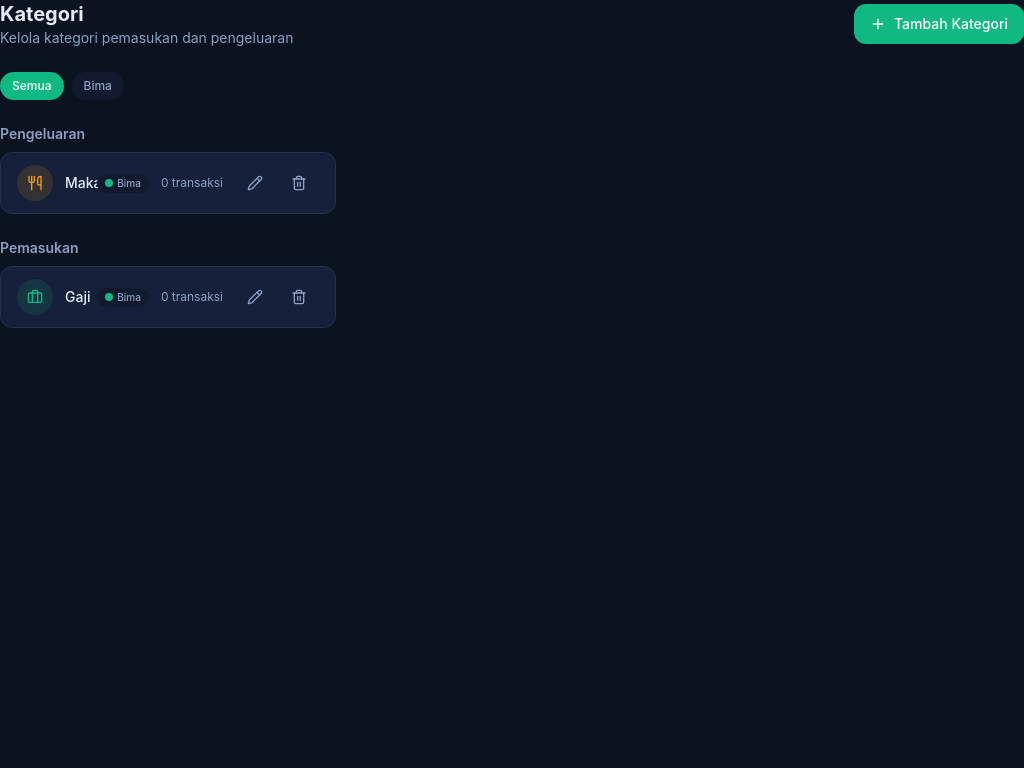
CategoriesPage › opens a pre-filled form when editing a category
Expected: the text "Makanan" is shown, [65,173,85,193]
Click the button named "Ubah" in the row of "Makanan": x=255, y=183 [235,169,275,197]
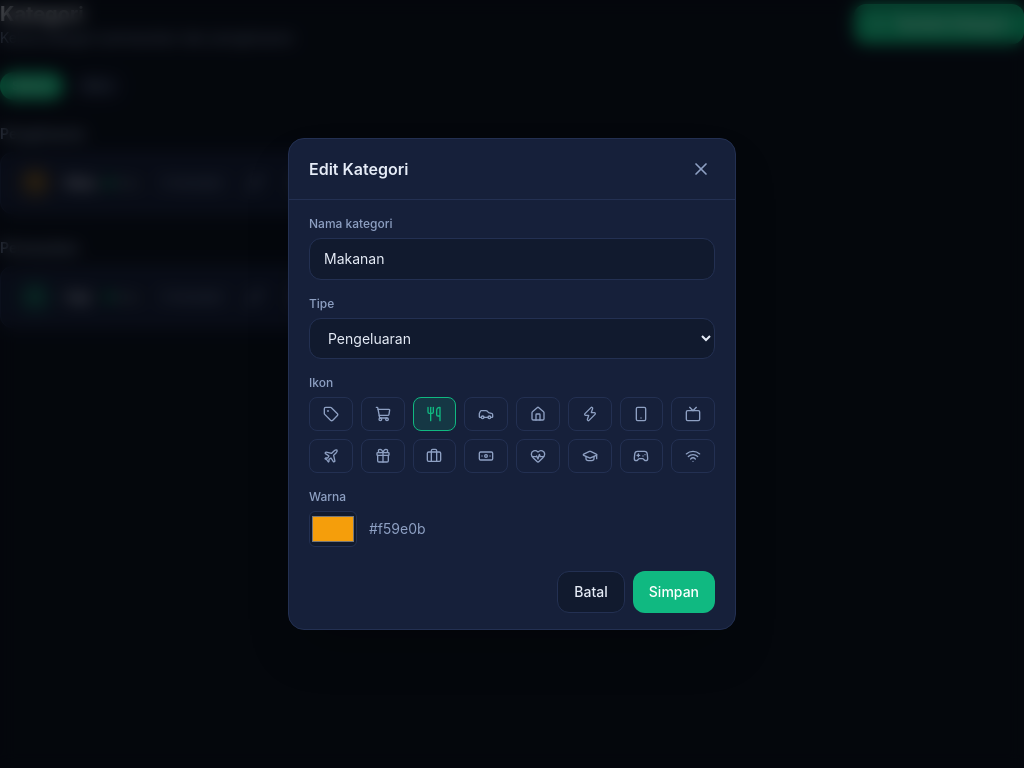
Now the heading "Edit Kategori" is shown, box [309,157,408,181]
Now the field labelled "Nama kategori" holds "Makanan", box [309,238,715,280]
